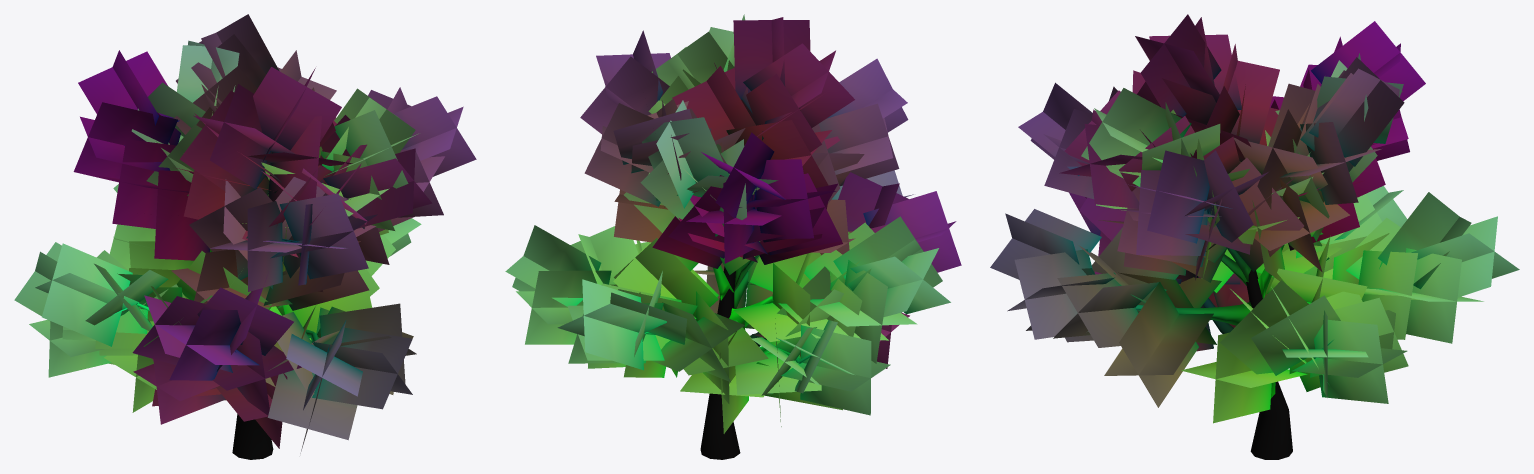
File: URP_Tree_1_LOD_2.fbx
The picture shows the model from 3 angles, left to right: view 1: azimuth 30°, elevation 25°; view 2: azimuth 150°, elevation 25°; view 3: azimuth 270°, elevation 25°; orthographic projection. The views are drawn at different scales.
Parts seen in each view (by area): view 1: Tree_1_LOD_2; view 2: Tree_1_LOD_2; view 3: Tree_1_LOD_2.
Boxes of the visible parts, bbox=[...] form: Tree_1_LOD_2: bbox=[14, 14, 476, 459]; Tree_1_LOD_2: bbox=[505, 14, 961, 459]; Tree_1_LOD_2: bbox=[990, 14, 1519, 459].
Size of the model in its own units: 594 by 582 by 656.
